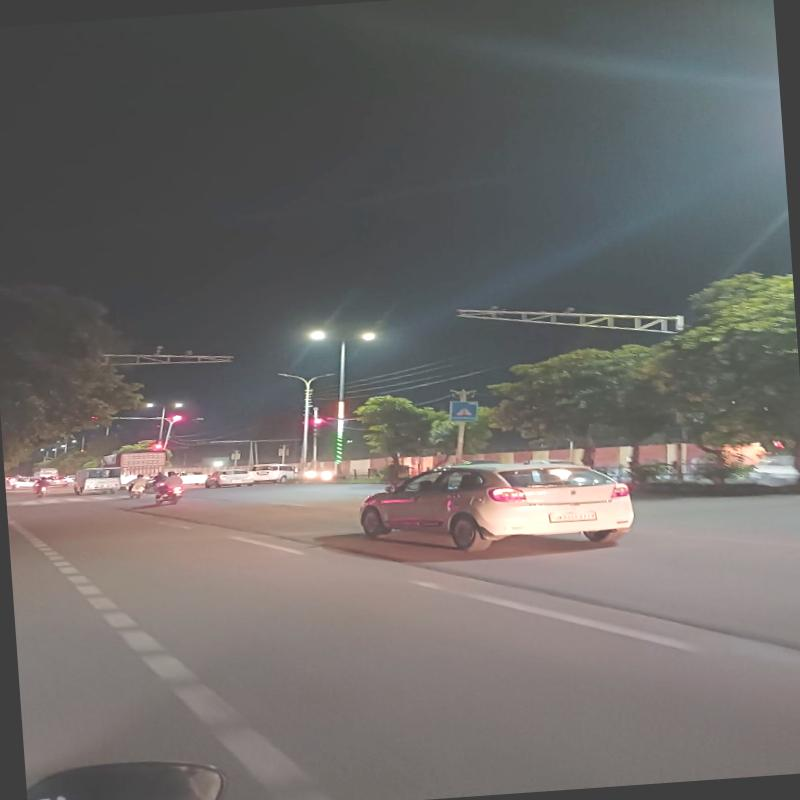license plate on a car: (550, 511, 597, 522)
